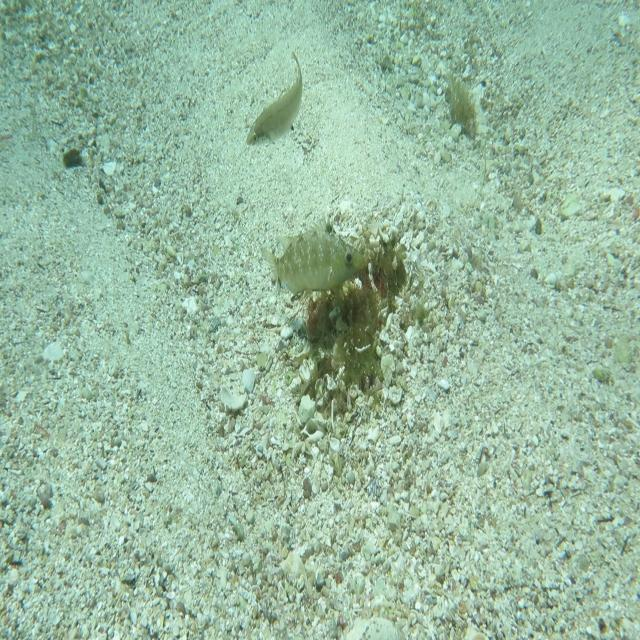FAN: (261, 212, 366, 303)
core_nest: (344, 254, 384, 293)
female: (245, 50, 304, 147)
nest: (274, 211, 403, 423)
vegetation: (446, 71, 479, 142), (62, 147, 84, 171)
